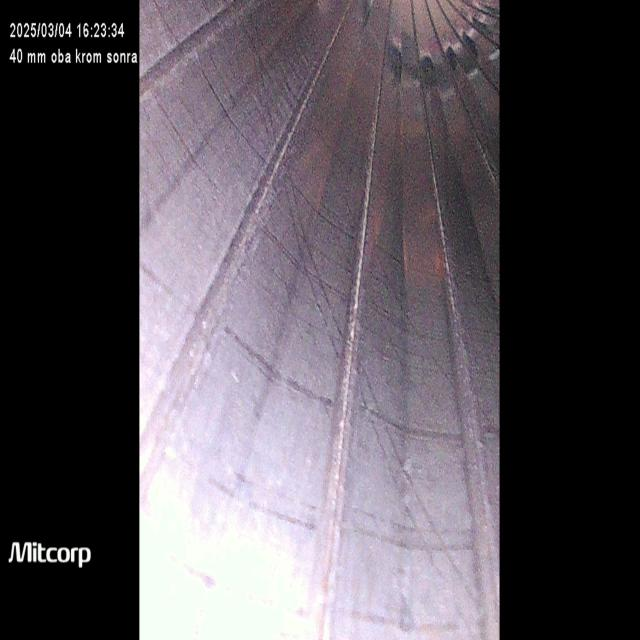hata_8.1: (192, 256, 501, 492)
